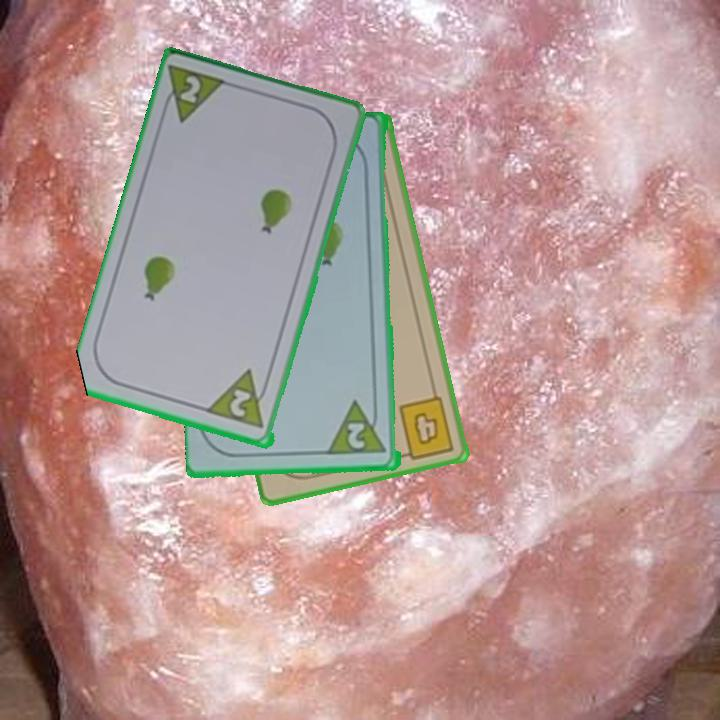2p: (226, 386, 254, 421), (177, 72, 204, 107), (344, 419, 370, 452)
4b: (395, 393, 457, 462)
